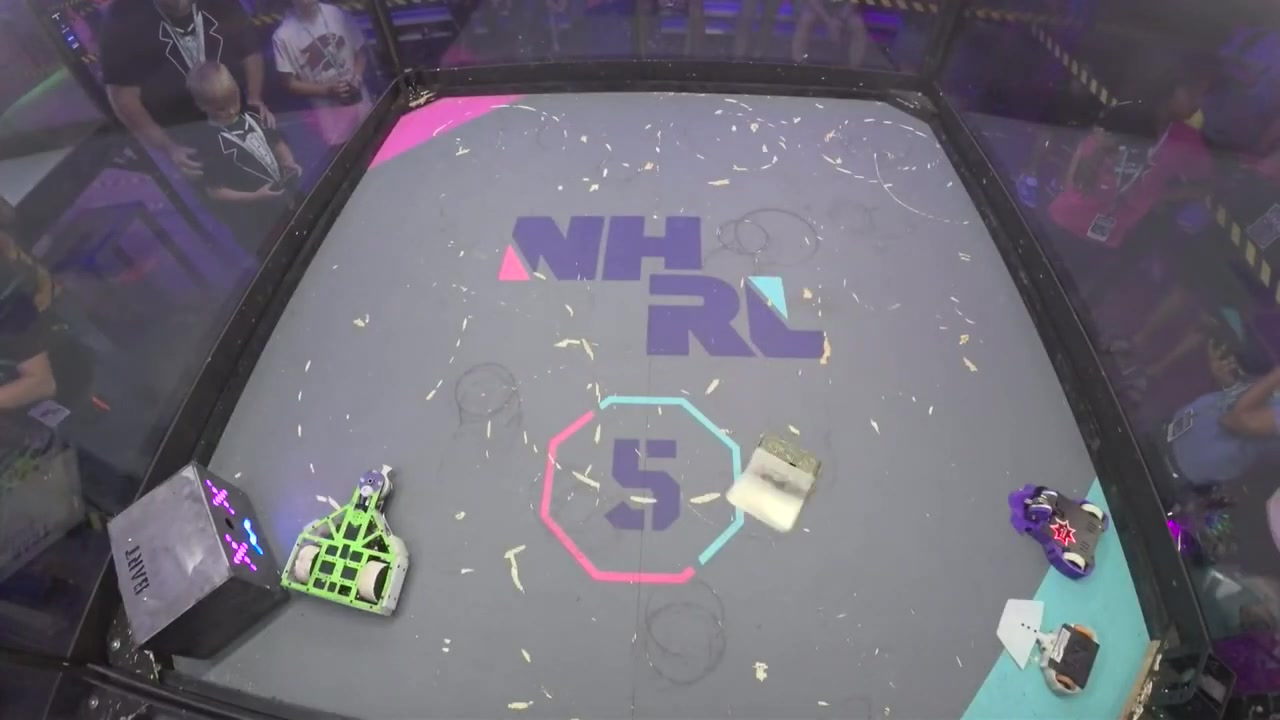combatbot: (282, 467, 413, 618), (1013, 483, 1109, 583)
housebot: (105, 461, 289, 671)
minibot: (724, 431, 829, 534), (995, 595, 1102, 696)
